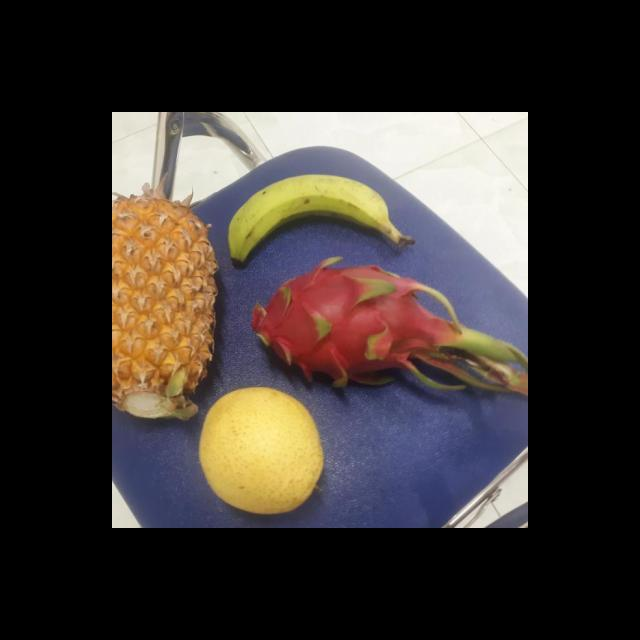banana: (218, 177, 396, 266)
pear: (192, 384, 323, 514)
pineapple: (112, 194, 220, 423)
pitaya: (236, 258, 438, 391)
